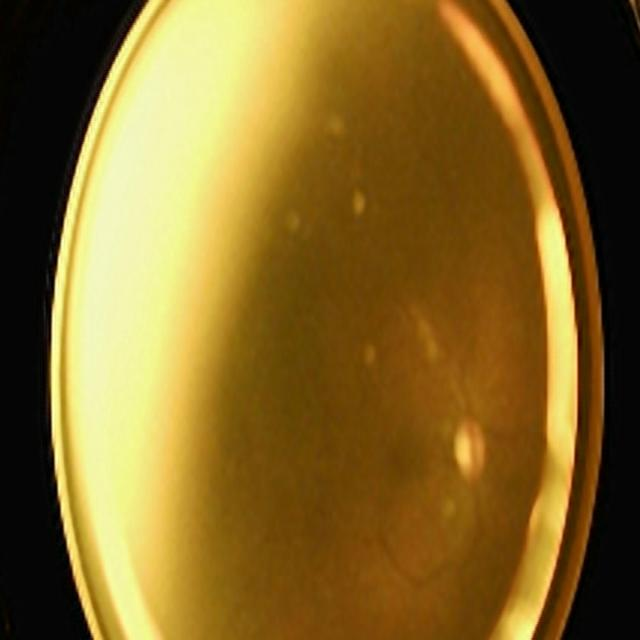optic-nerve: (437, 374, 508, 532)
